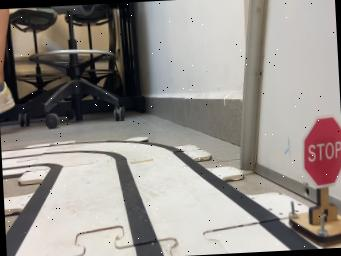stop: (289, 115, 341, 244), (289, 115, 341, 244), (289, 115, 341, 244)
street: (1, 140, 318, 256), (1, 140, 318, 256), (1, 140, 318, 256), (184, 181, 186, 182), (184, 181, 186, 182), (184, 181, 186, 182)
